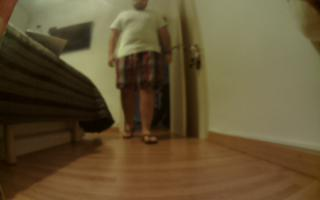person: (106, 1, 177, 146)
